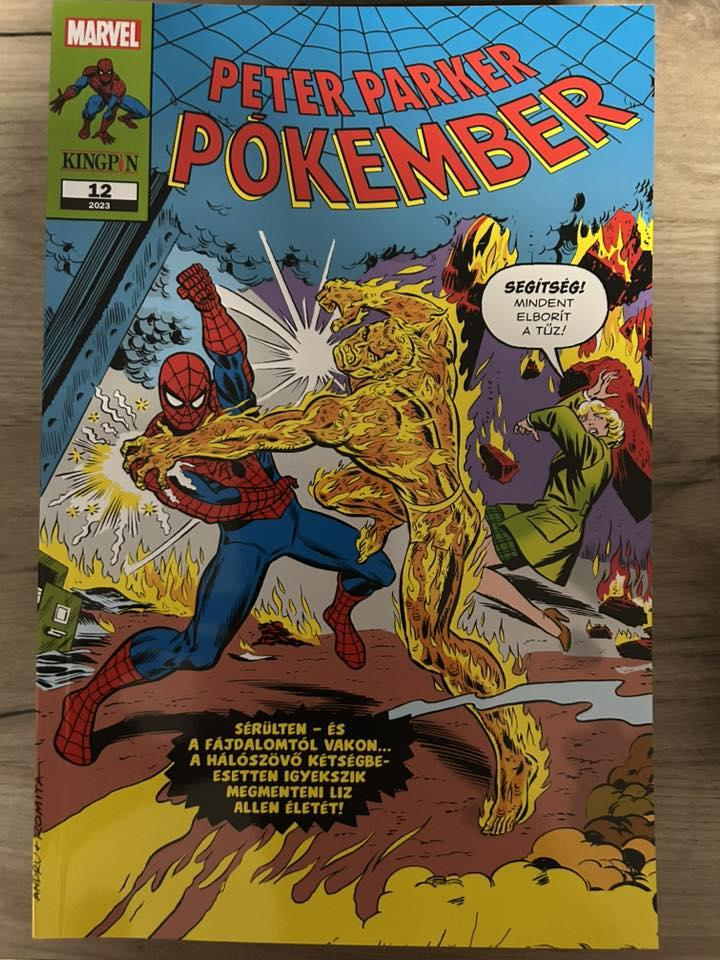comic: (32, 0, 665, 948)
